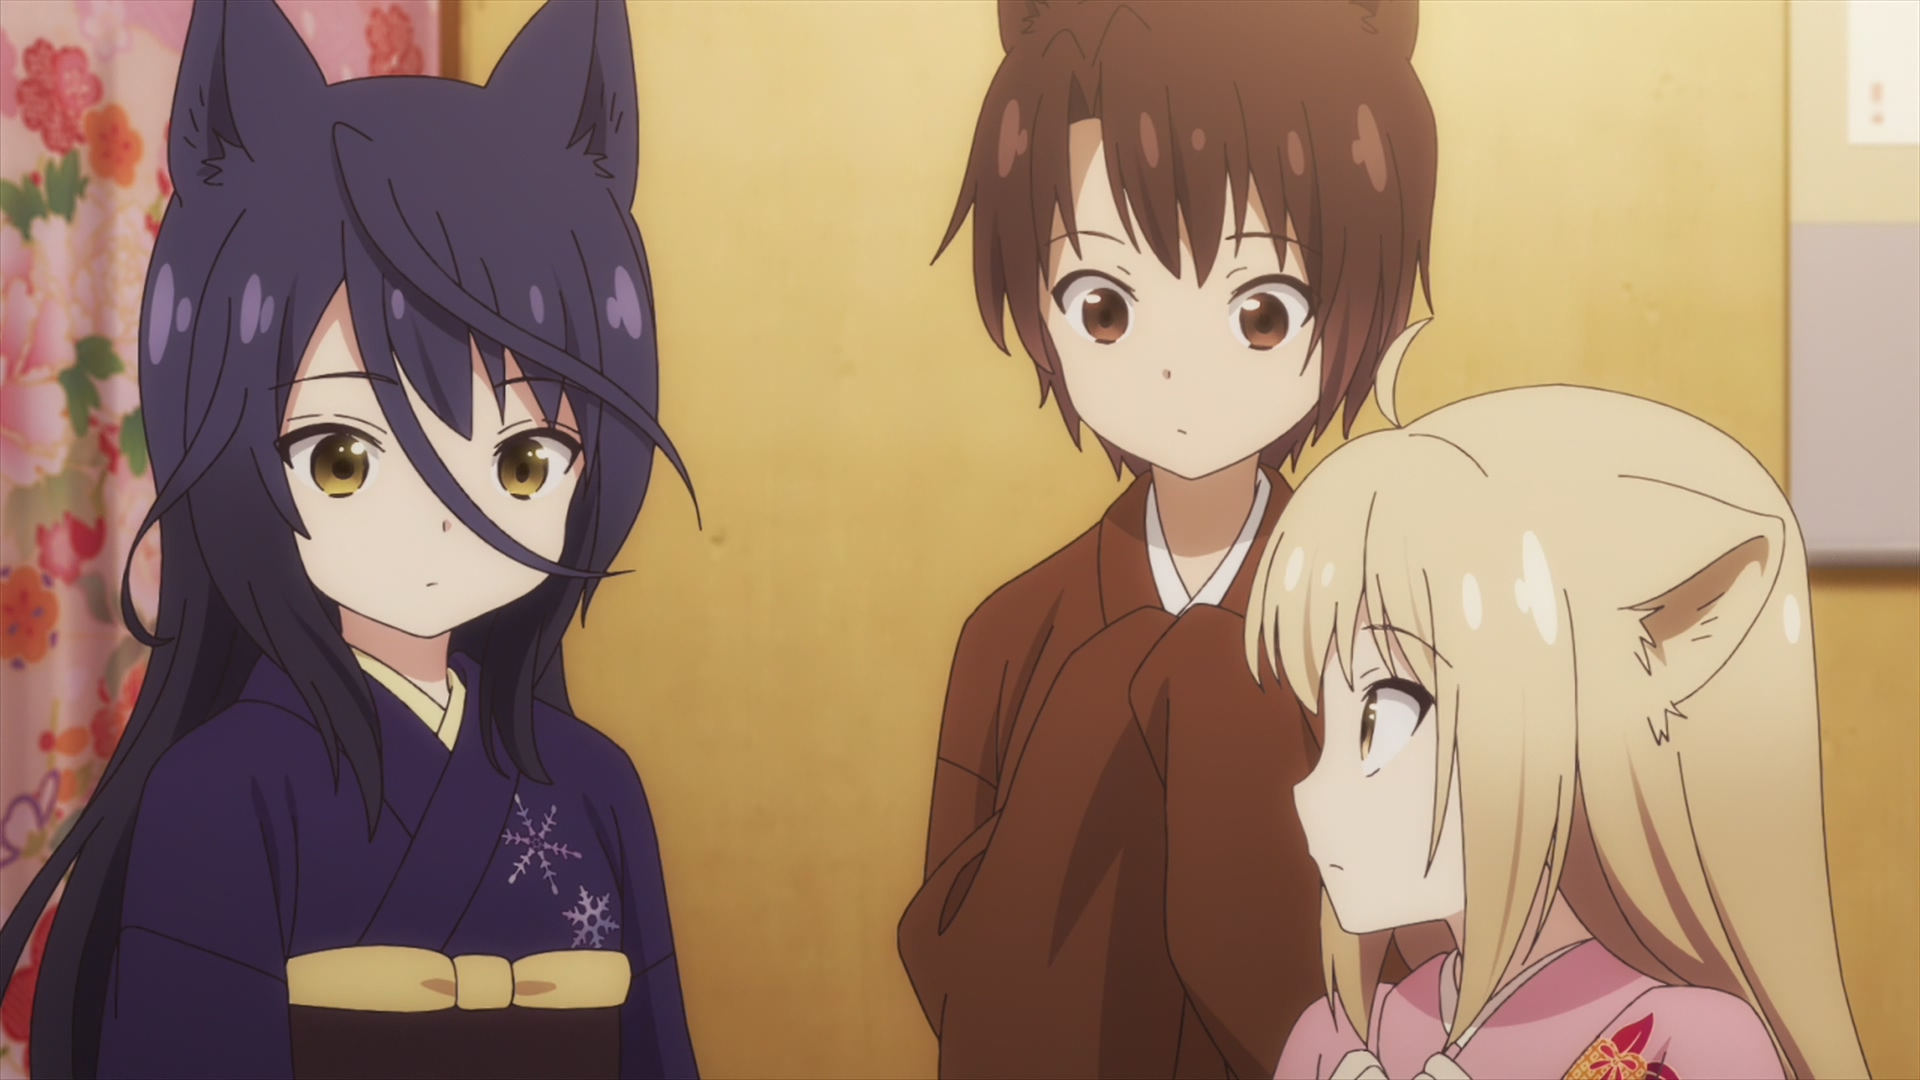枣: (895, 1, 1437, 1080)
柚: (1245, 320, 1869, 1080)
皋: (1, 1, 702, 1080)
